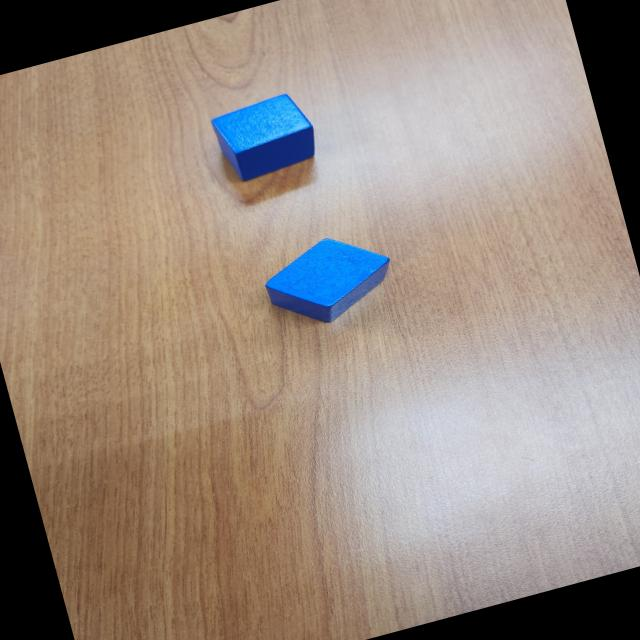blue: (258, 223, 403, 336), (208, 86, 324, 186)
